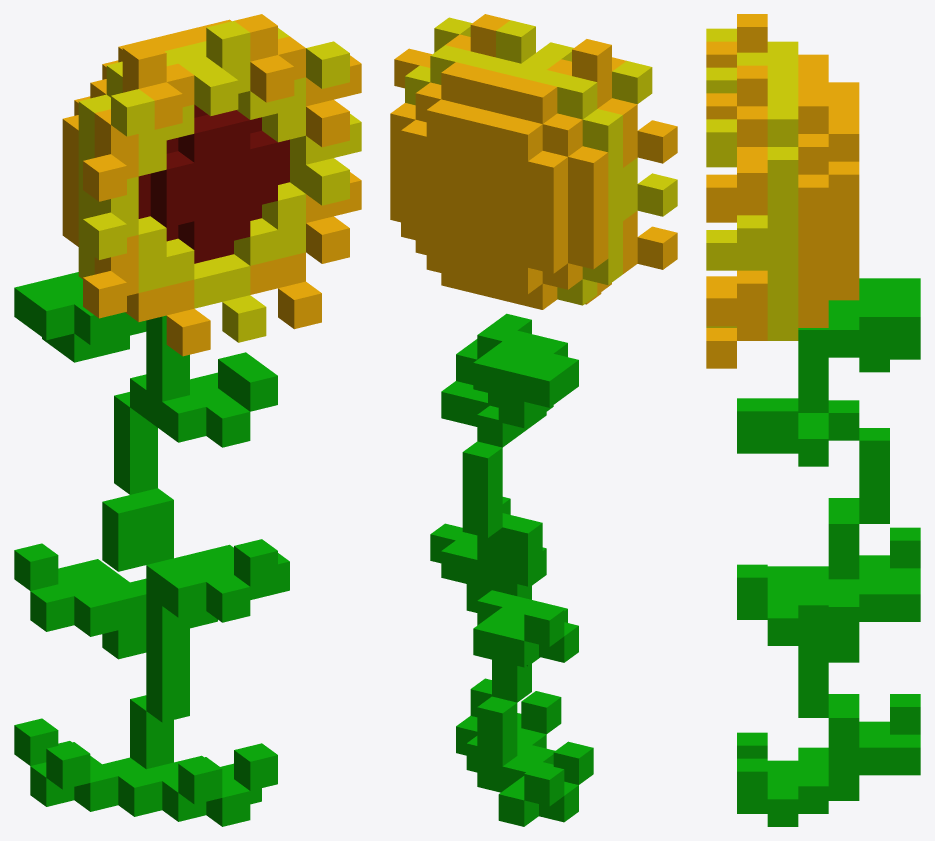
The model's file is Sunflower3.obj.
The picture shows the model from 3 angles, left to right: view 1: azimuth 30°, elevation 25°; view 2: azimuth 150°, elevation 25°; view 3: azimuth 270°, elevation 25°; orthographic projection. The views are drawn at different scales.
Bounding box in the file's own units: 1 × 2.7 × 0.7.
